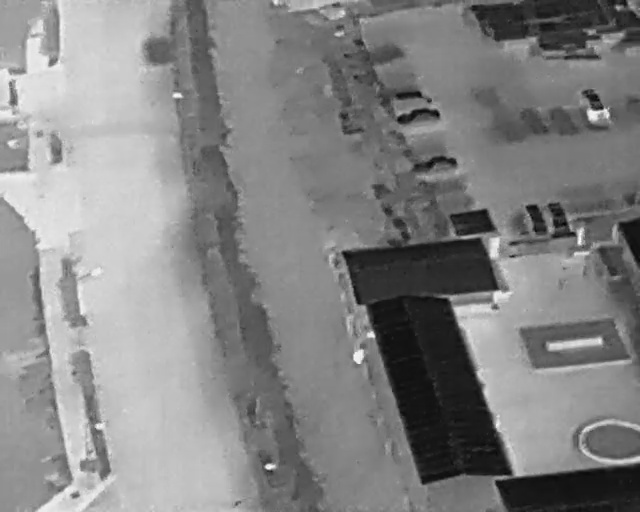Car: (575, 83, 611, 128), (411, 152, 458, 177), (395, 105, 441, 128), (523, 200, 548, 239), (544, 199, 571, 235), (392, 91, 433, 107)
